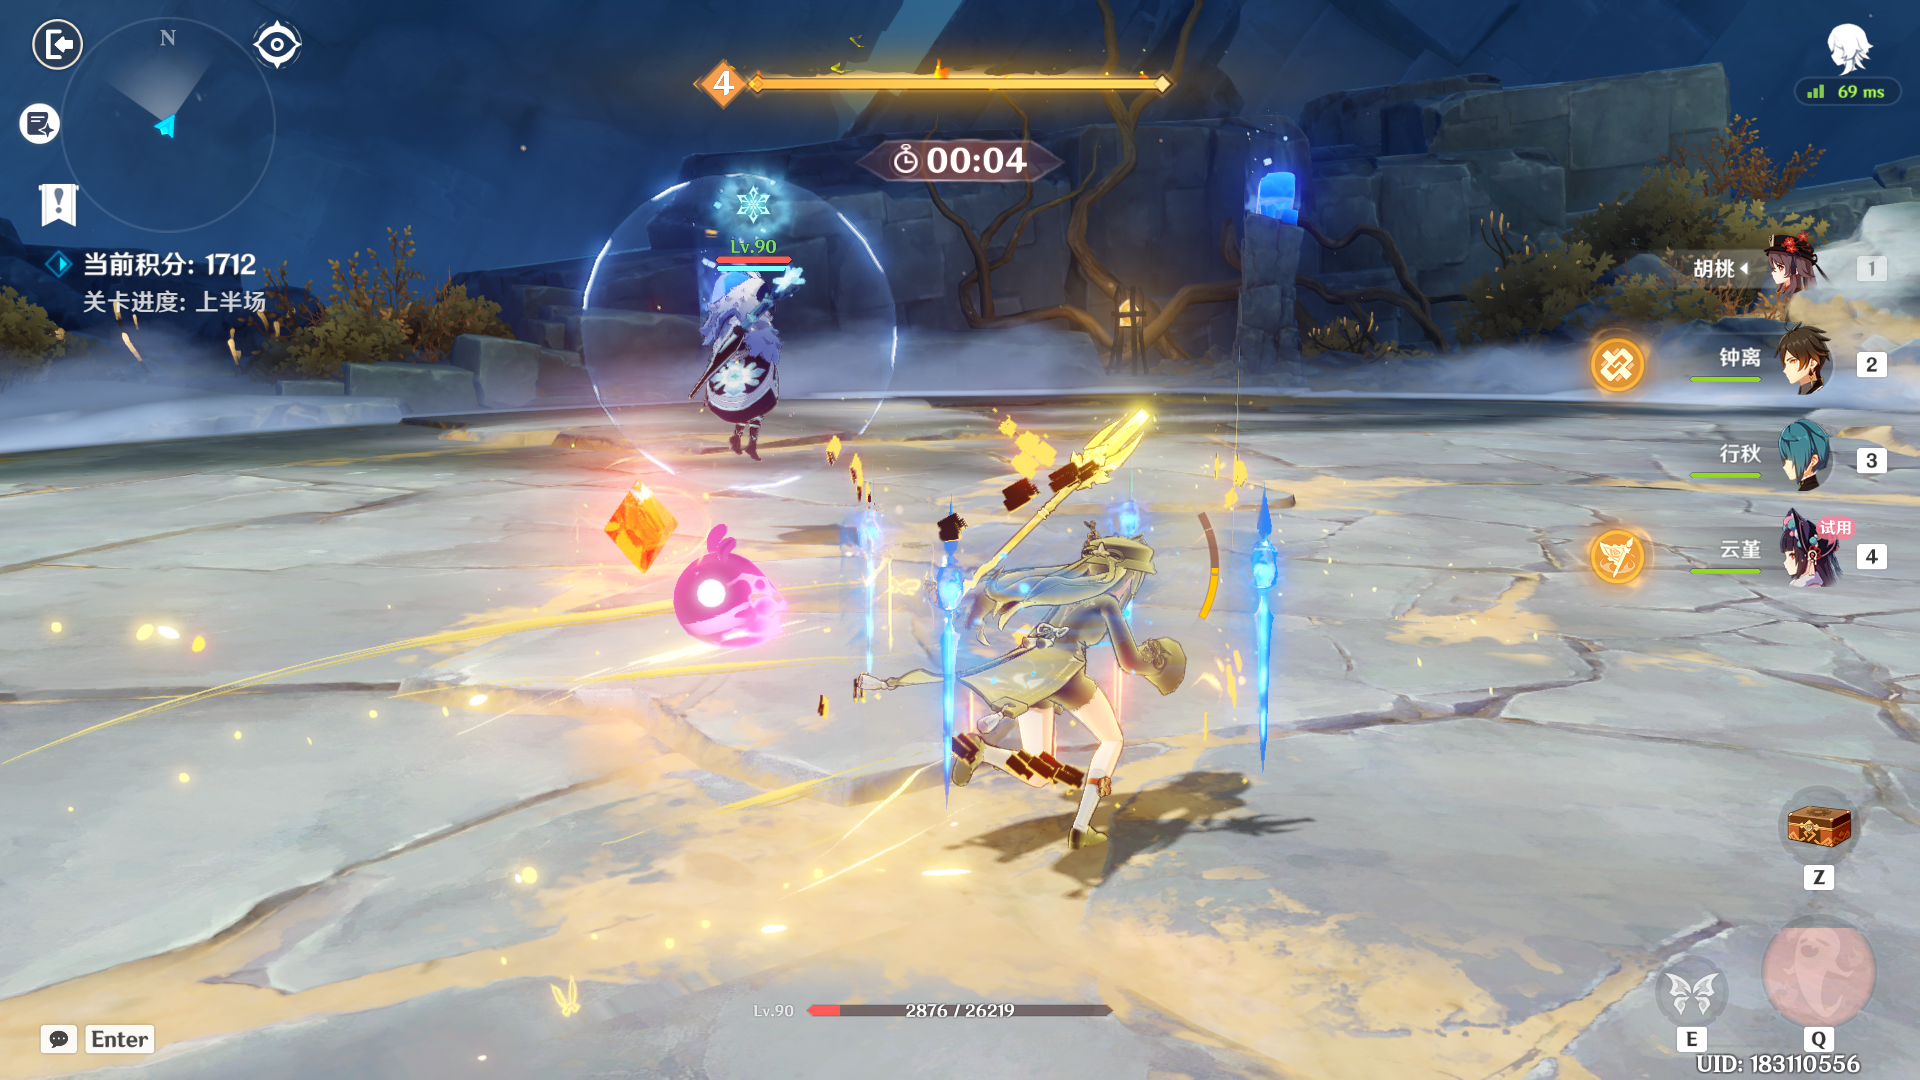caster: (662, 247, 833, 456)
character: (942, 496, 1207, 898)
